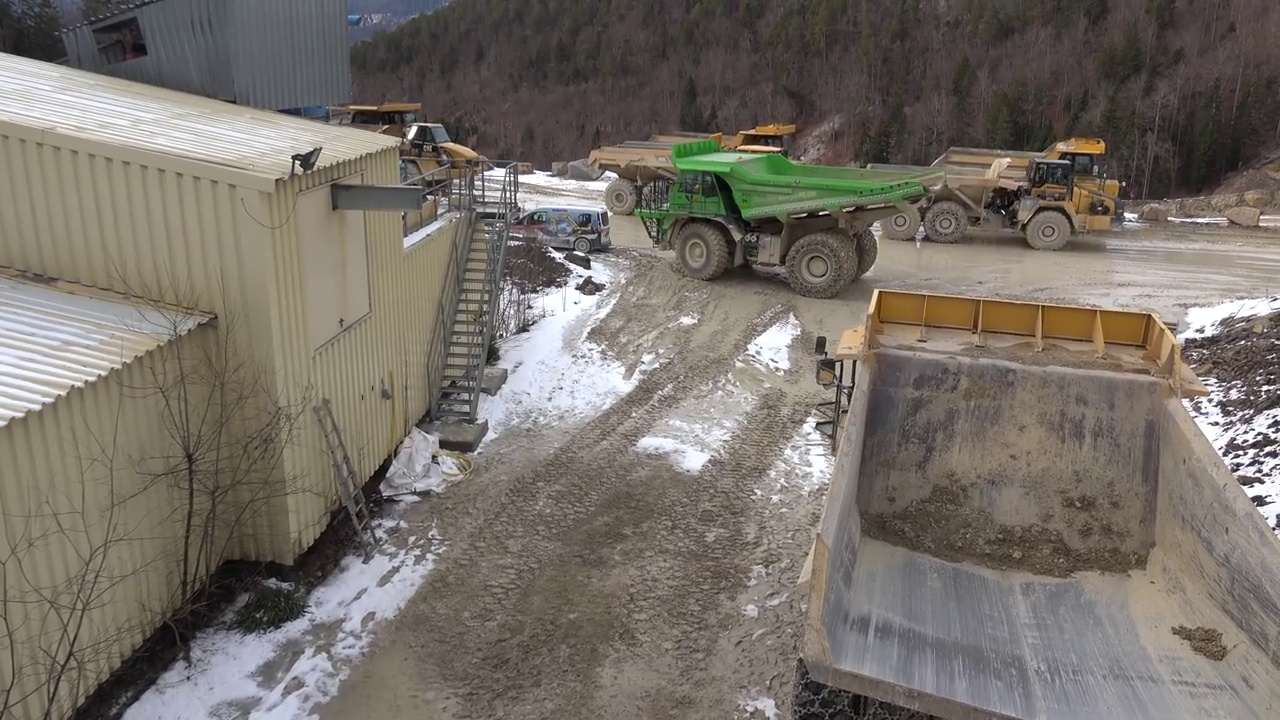dumper: (755, 281, 1280, 719), (637, 143, 947, 301), (918, 139, 1124, 253), (594, 124, 802, 212)
